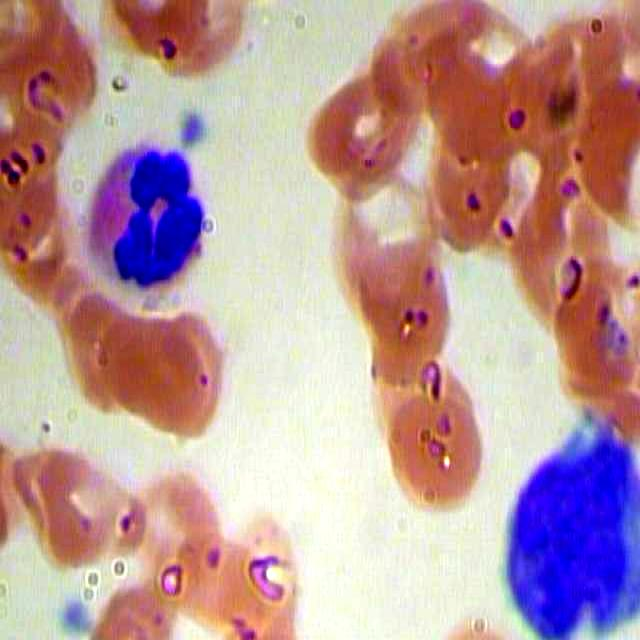Platelets: (177, 102, 211, 154), (61, 588, 95, 640)
RBC: (507, 168, 623, 327), (17, 440, 144, 571), (107, 460, 234, 591), (86, 297, 213, 428), (31, 277, 158, 408), (367, 381, 494, 512), (346, 233, 473, 364), (296, 61, 423, 192), (417, 112, 511, 251), (4, 1, 98, 139), (564, 65, 640, 223), (1, 129, 77, 267)
WBC: (498, 405, 639, 640), (76, 141, 217, 304)
